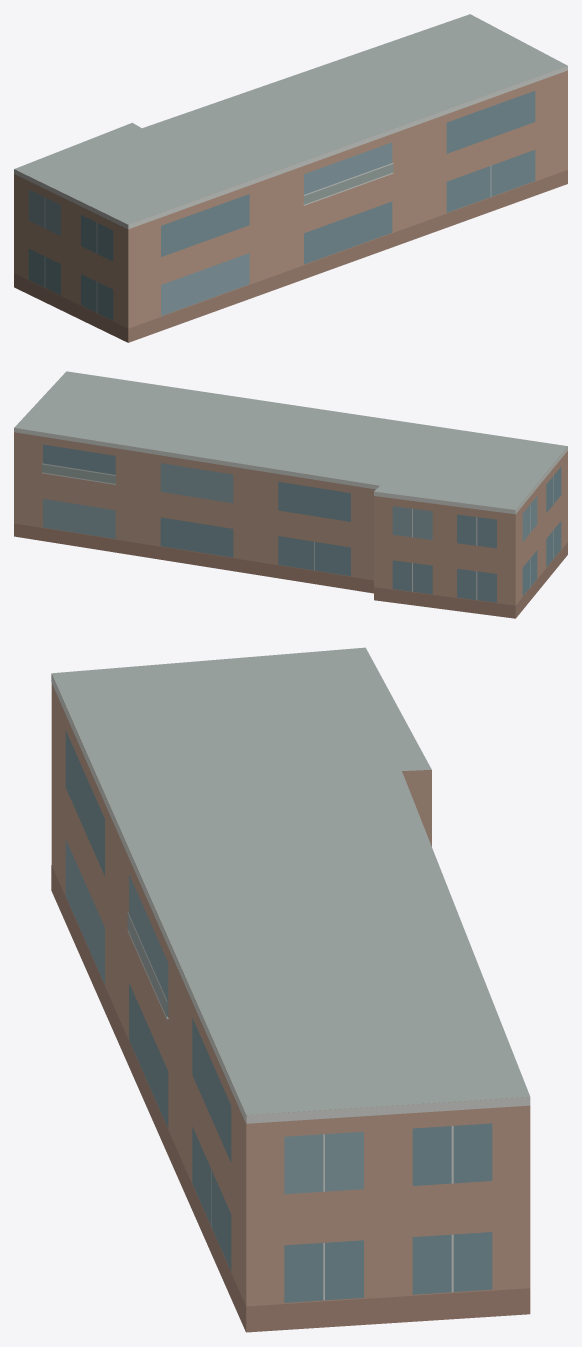
The model's file is survey-upis-32585837.glb.
The picture shows the model from 3 angles, top to bottom: view 1: azimuth 30°, elevation 25°; view 2: azimuth 150°, elevation 25°; view 3: azimuth 270°, elevation 25°; orthographic projection. The views are drawn at different scales.
Visible parts, largest first — view 1: survey-upis-32585837.tmp; view 2: survey-upis-32585837.tmp; view 3: survey-upis-32585837.tmp.
Boxes of the visible parts, box(x1,y1,x2,y2) form: survey-upis-32585837.tmp: box(14, 14, 567, 342); survey-upis-32585837.tmp: box(14, 371, 567, 618); survey-upis-32585837.tmp: box(51, 647, 530, 1332).
Bounding box in the file's own units: 28.17 × 6.1 × 12.2.
